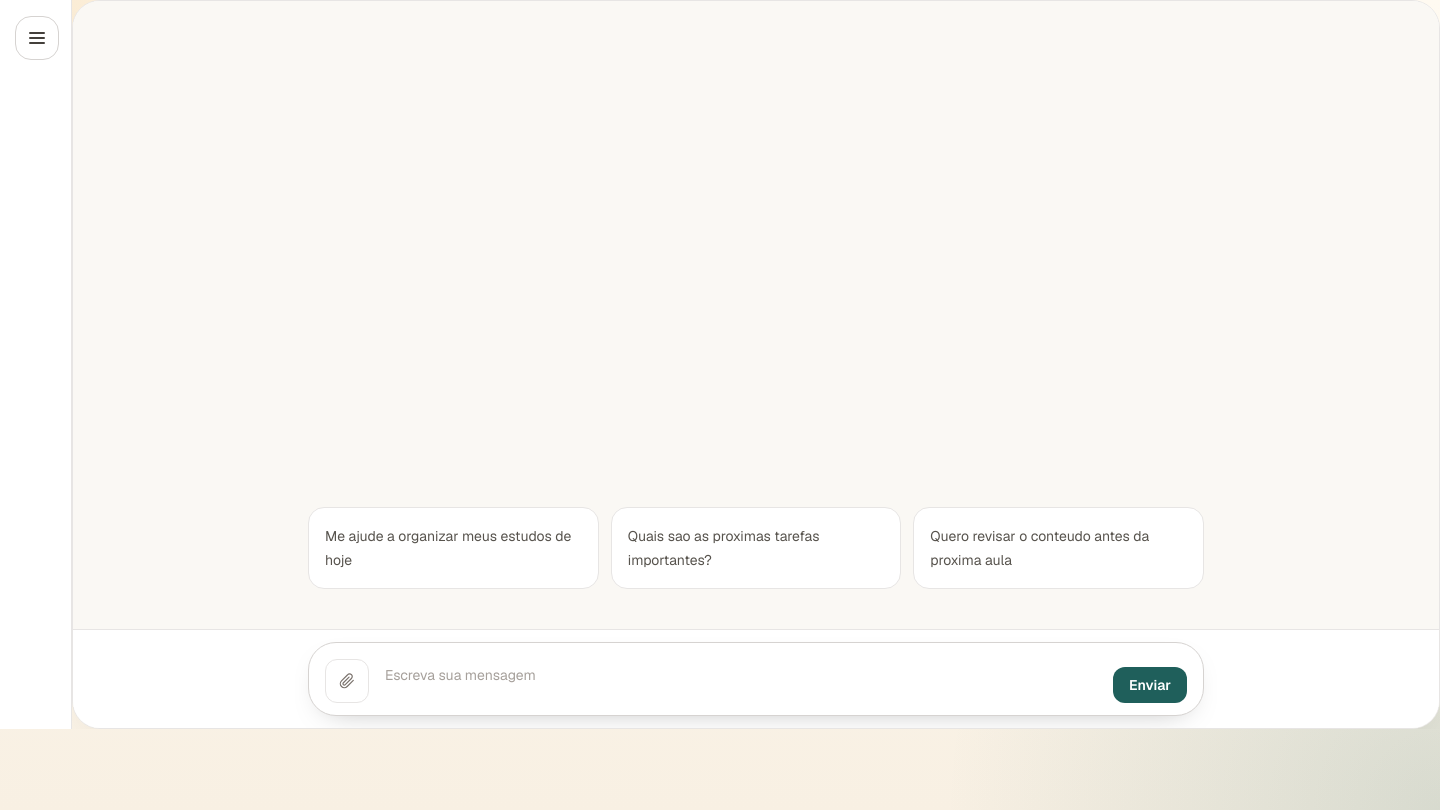
Test case: StudentWorkspace fallback notice › warns when the personal key failed during generation
Click the button named "Expandir menu lateral": (37, 38) [15, 16, 59, 60]
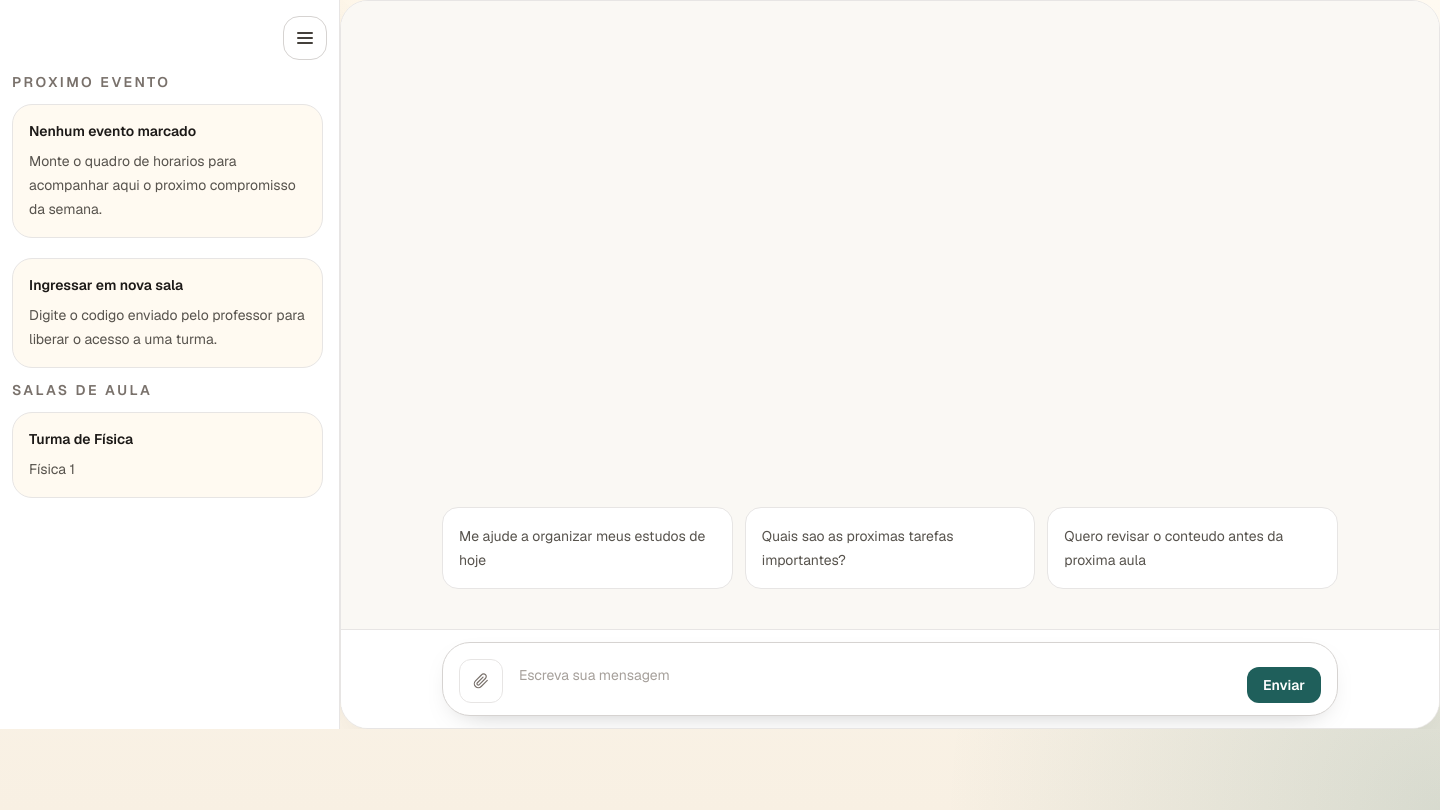
Click the heading "Turma de Física": (81, 439) [29, 430, 133, 448]
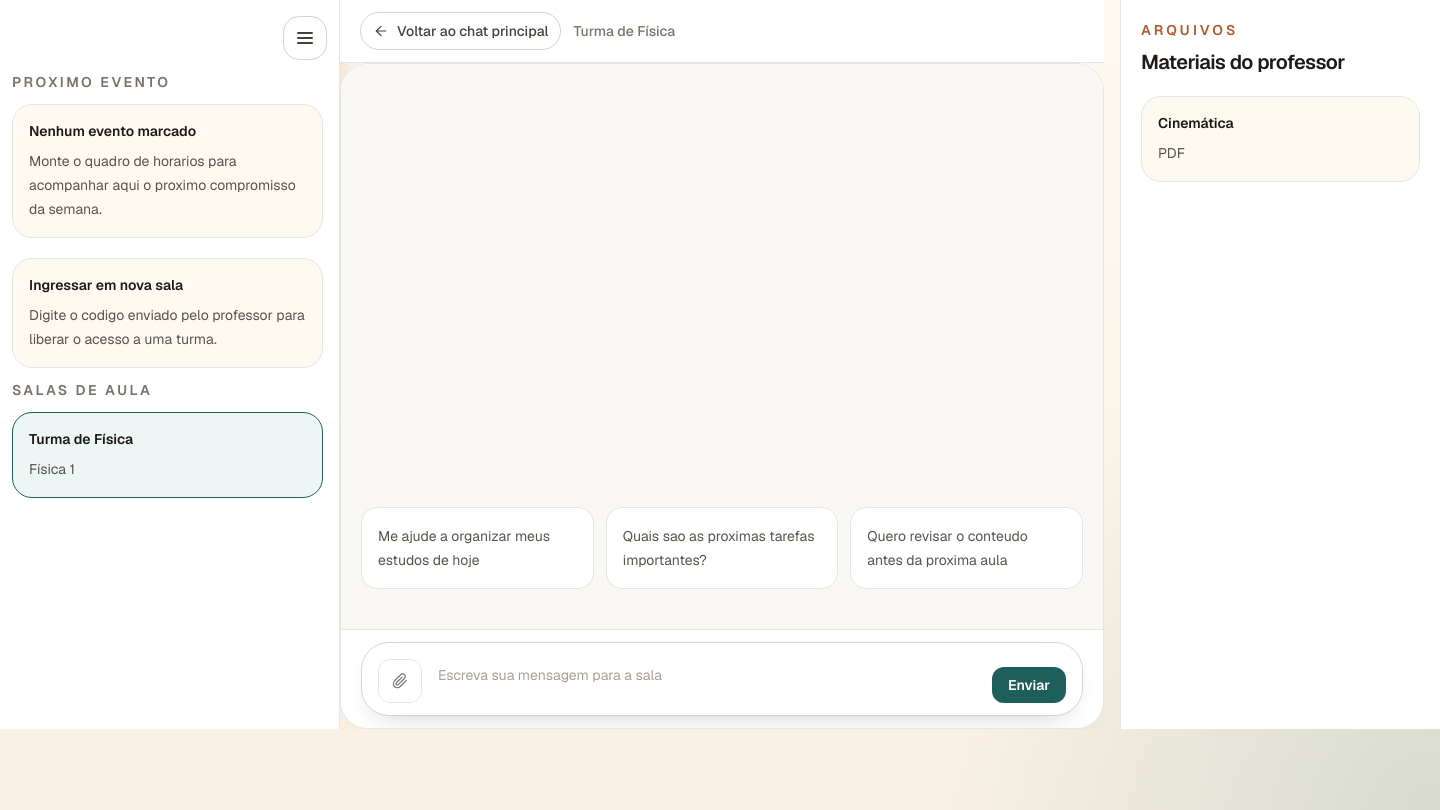
Click the heading "Cinemática": (1196, 123) [1158, 114, 1234, 132]
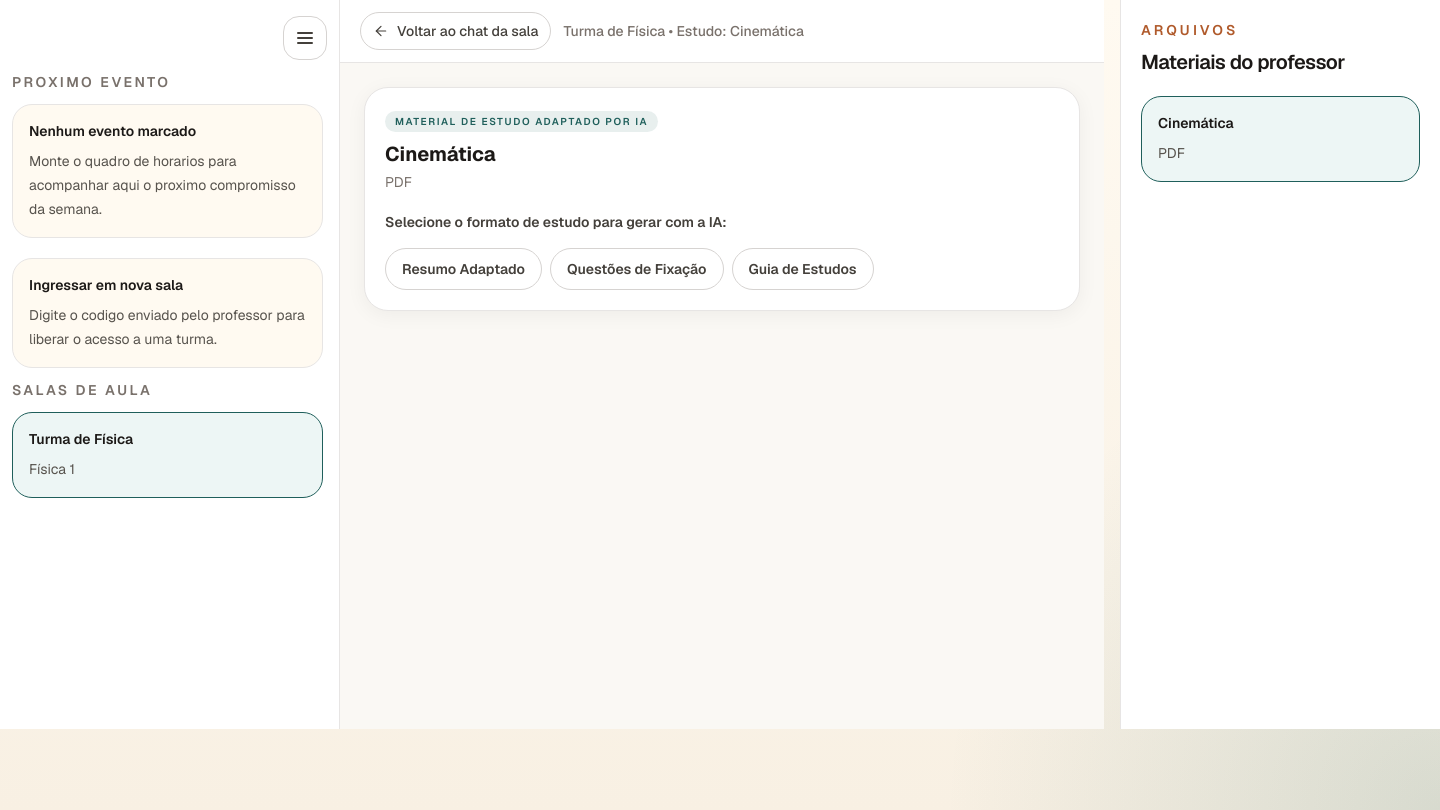
Click the button "Resumo Adaptado": (464, 269) [385, 248, 542, 290]
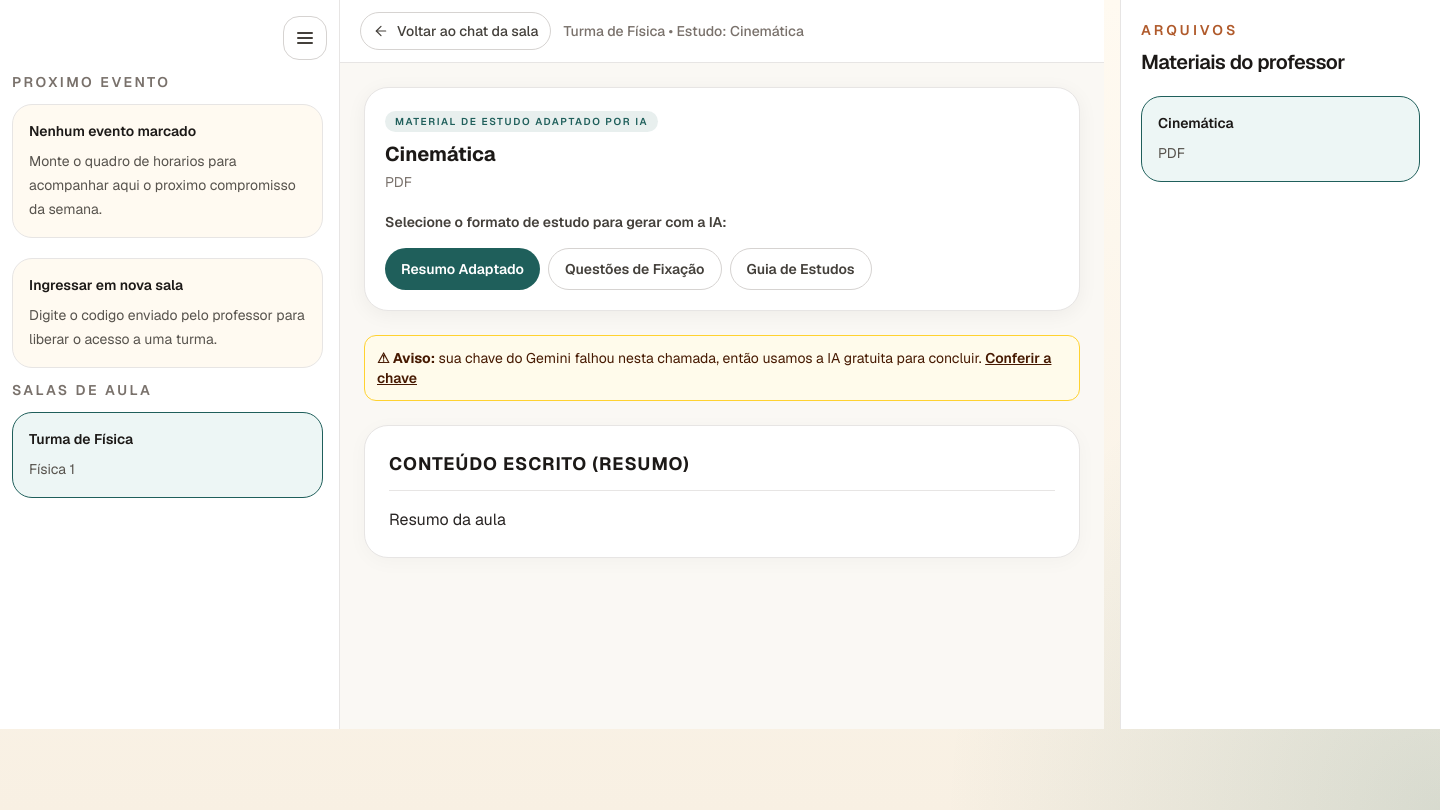
Expected: the text "Resumo da aula" is shown, [389, 509, 506, 530]
Expected: the text "sua chave do Gemini falhou" is shown, [435, 349, 982, 367]
